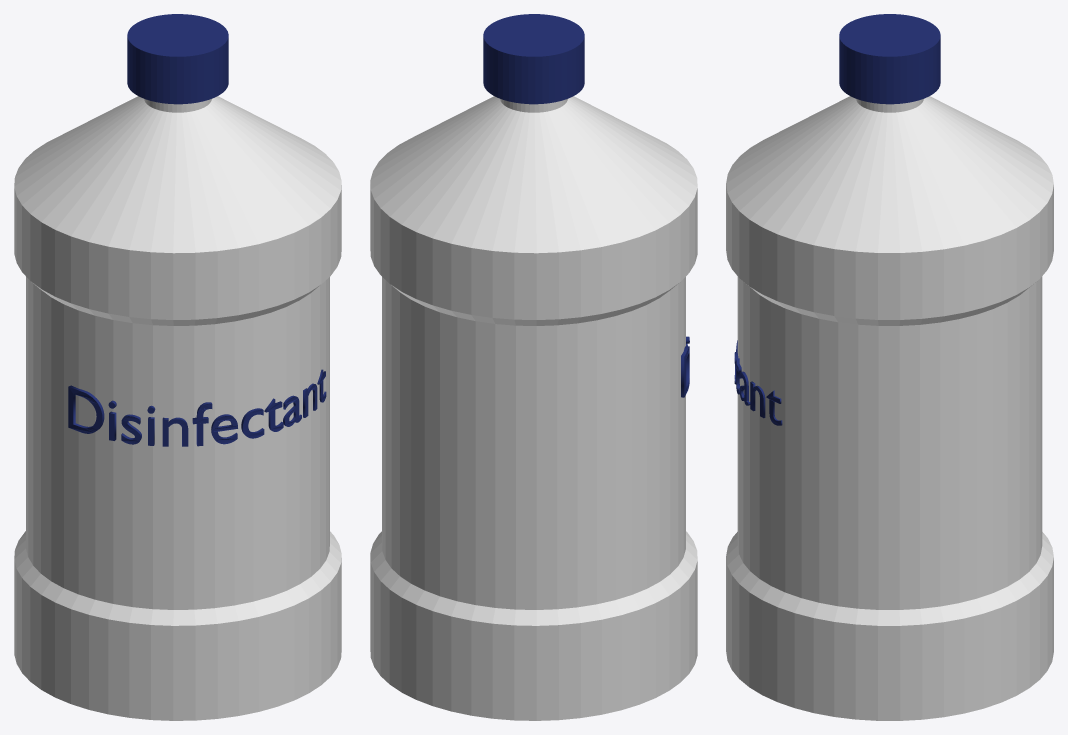
The model's file is desinfectant.fbx.
3 views of the same model, side by side, from view 1: azimuth 30°, elevation 25°; view 2: azimuth 150°, elevation 25°; view 3: azimuth 270°, elevation 25° (orthographic).
Visible parts, largest first — view 1: Cylinder.007, cap, Text; view 2: Cylinder.007, cap; view 3: Cylinder.007, cap, Text.
Part boxes in pixels (bbox=[...]): Cylinder.007: bbox=[14, 96, 341, 720]; cap: bbox=[127, 14, 228, 104]; Text: bbox=[68, 369, 326, 446]; Cylinder.007: bbox=[370, 96, 697, 720]; cap: bbox=[483, 14, 584, 104]; Cylinder.007: bbox=[726, 96, 1053, 720]; cap: bbox=[839, 14, 940, 104]; Text: bbox=[734, 340, 782, 425].
Bounding box in the file's own units: 4.77 × 9.91 × 4.78.
